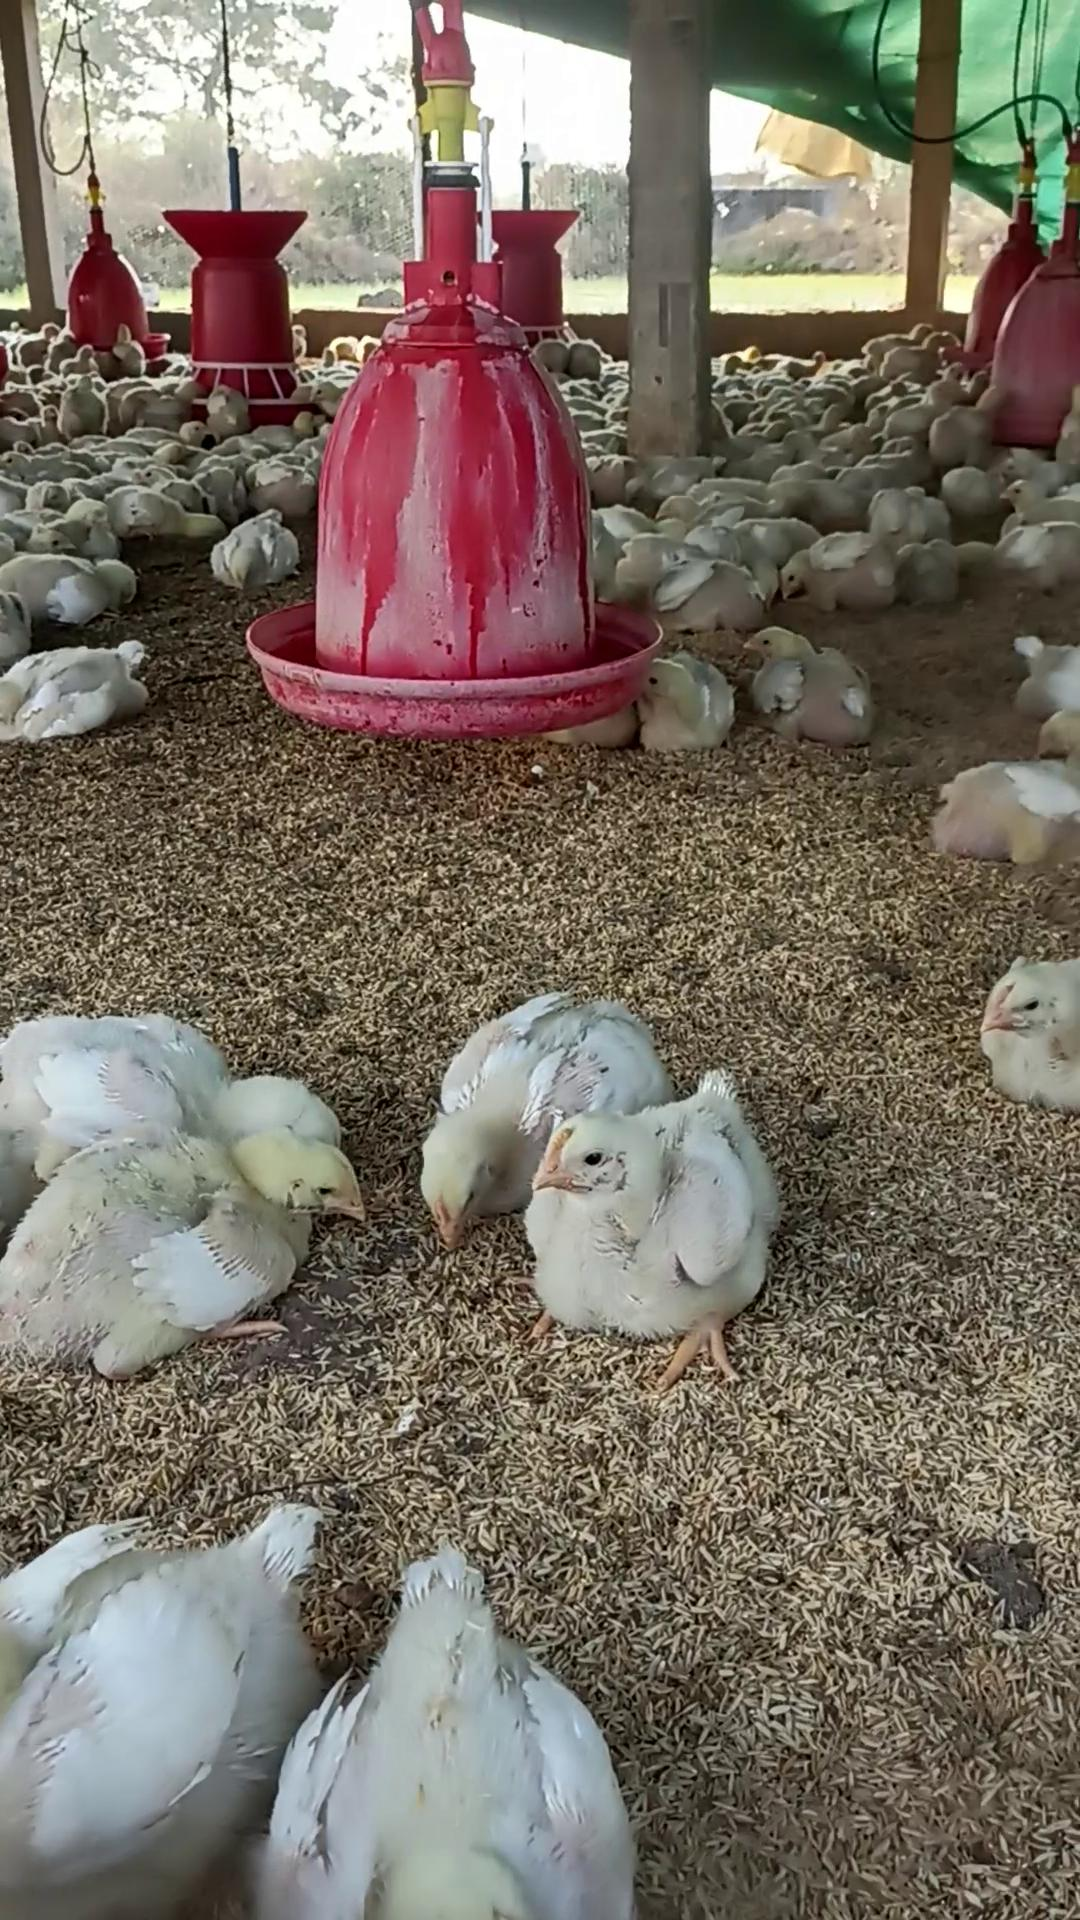Pollos: (24, 1124, 382, 1336), (524, 1076, 774, 1340), (423, 1010, 524, 1233), (741, 622, 880, 744), (980, 953, 1080, 1112), (775, 531, 897, 607), (210, 513, 294, 589)
